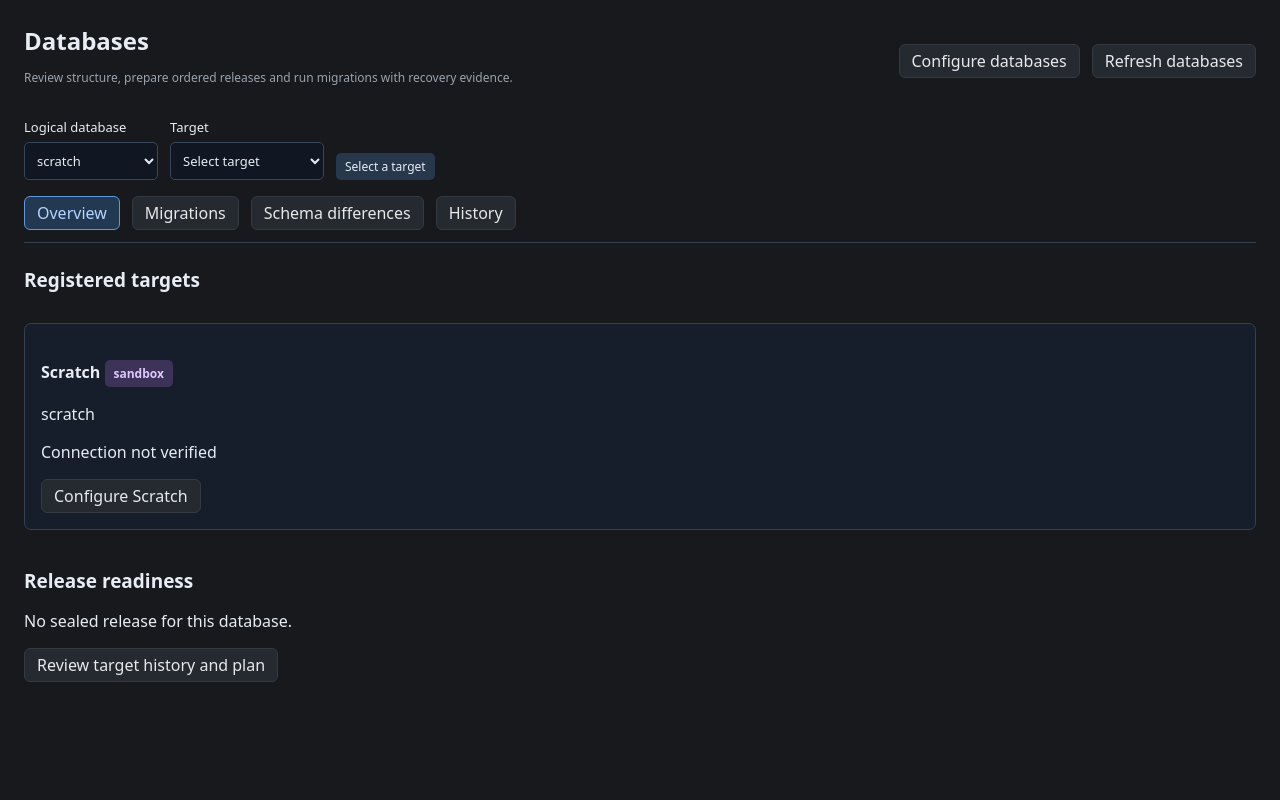
Test: Database view › does not offer a comparison for a database configured only as a sandbox
Expected: the dropdown labelled "Logical database" shows "scratch", [24,142,158,180]
What coordinates should you click on to do the following:
click the button "Schema differences"
I would click on:
 (337, 213)
Its box is [251,196,424,230].
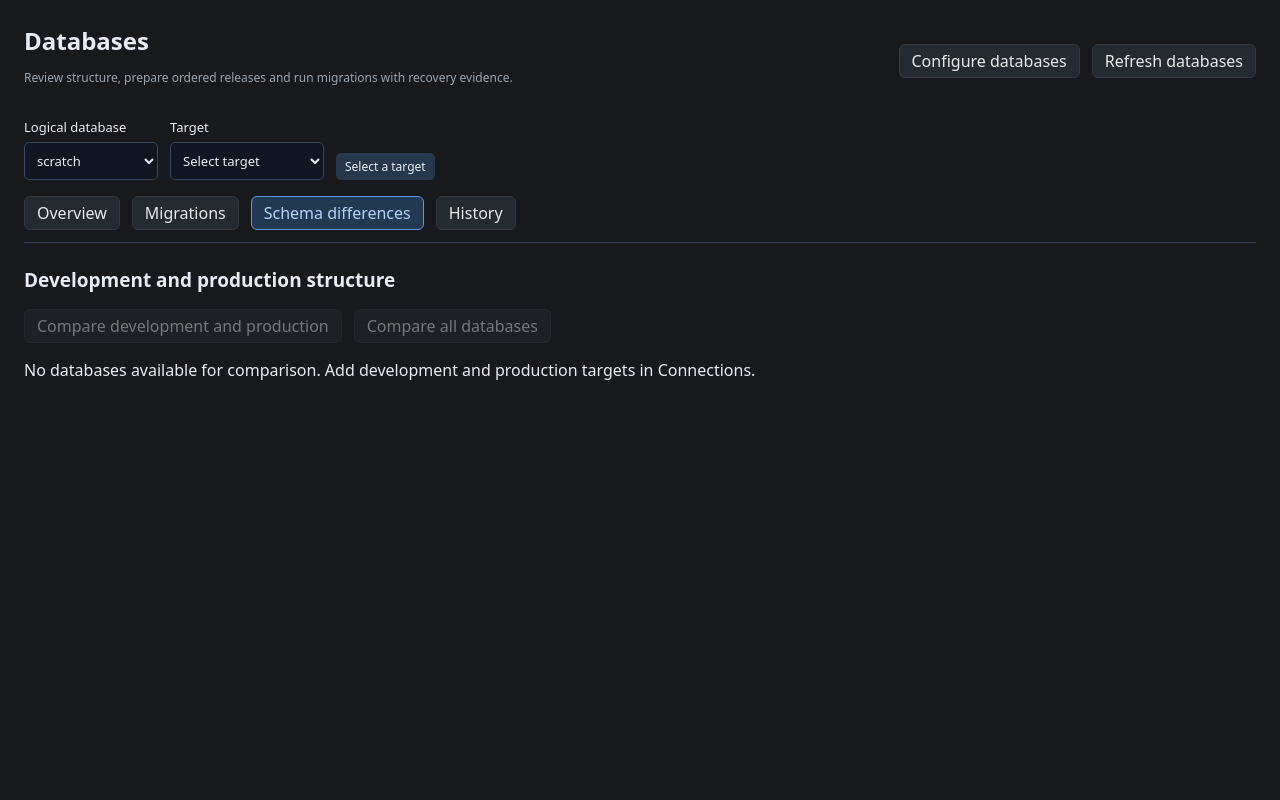
Result: the button "Compare development and production" is disabled at [24,309,342,343]
Result: the button "Compare all databases" is disabled at [354,309,551,343]
